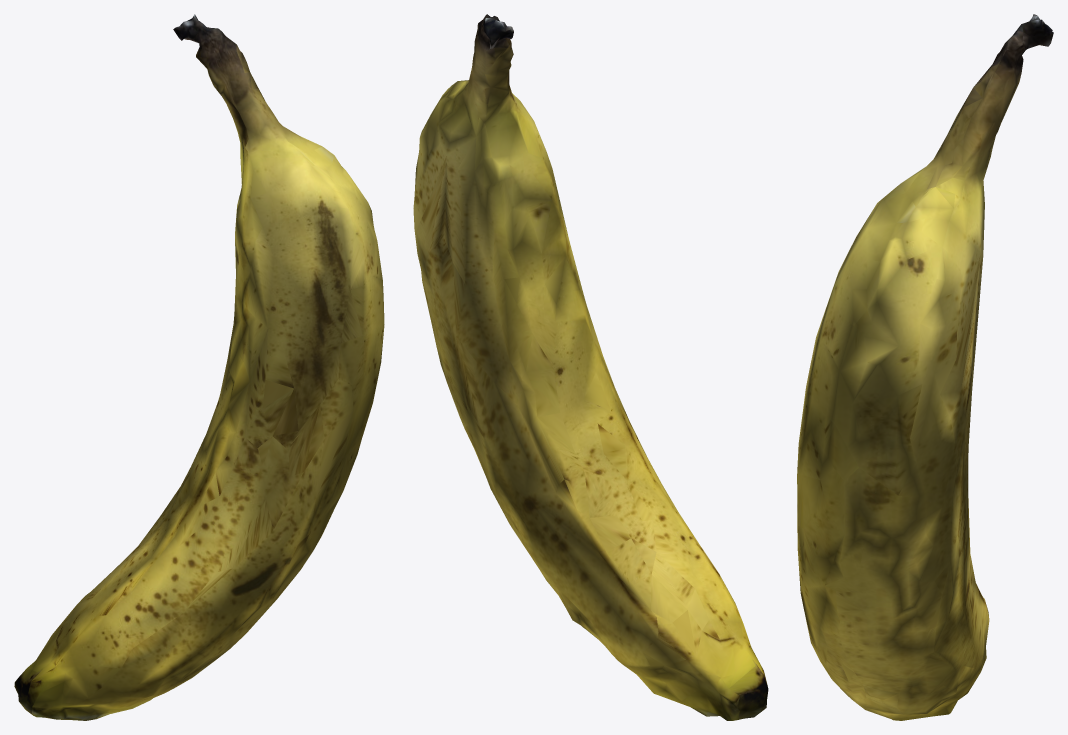
Rendered from banana.obj.
3 renders of one model, left to right at view 1: azimuth 30°, elevation 25°; view 2: azimuth 150°, elevation 25°; view 3: azimuth 270°, elevation 25°, orthographic. The views are drawn at different scales.
Visible parts, largest first — view 1: banana; view 2: banana; view 3: banana.
Part boxes in pixels (<box>): banana: <box>14,14,384,720</box>; banana: <box>413,14,768,720</box>; banana: <box>797,14,1053,720</box>.
Size of the model in its own units: 0.8004 by 1.46 by 0.4346.
Materials: 1 (1 with a texture image).
